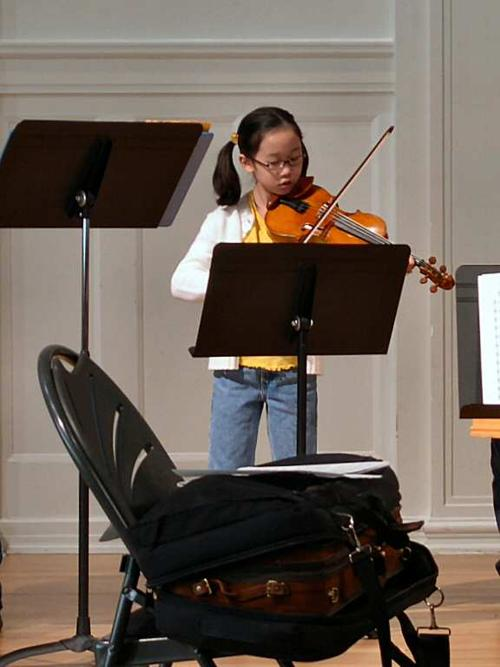person: (170, 105, 419, 481)
